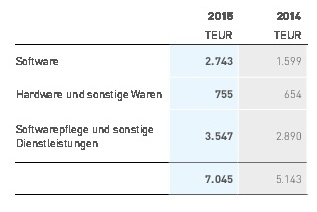table: (0, 0, 317, 212)
